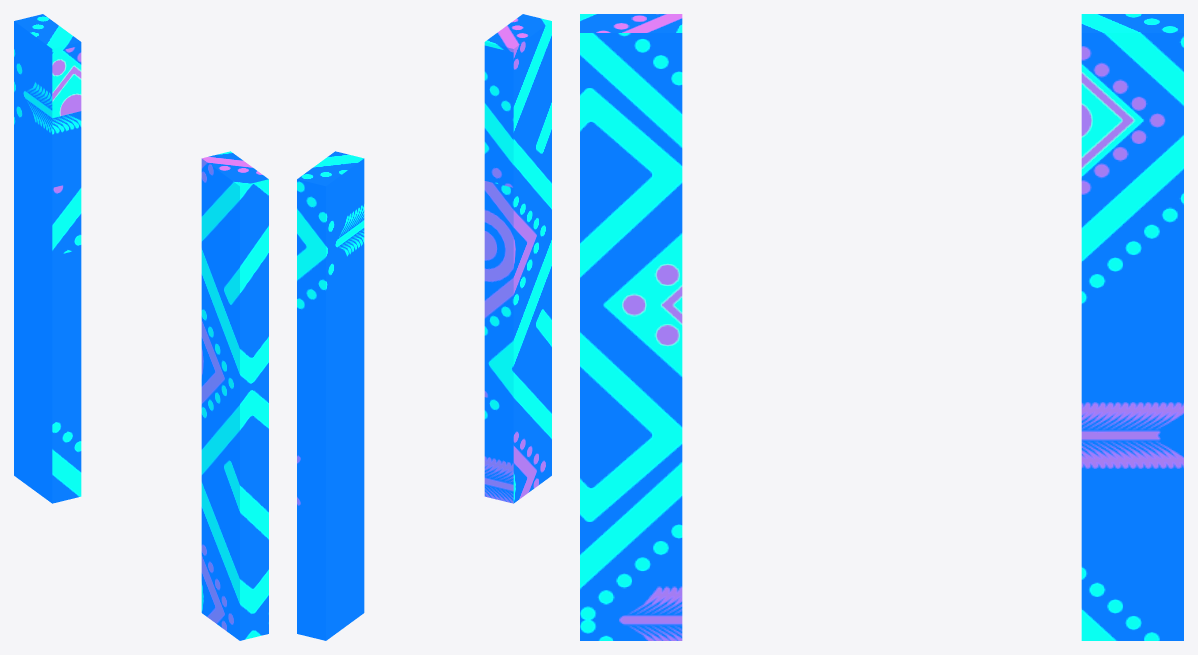
The model's file is SM_Arch_SM_Arch_base_wall.fbx.
The picture shows the model from 3 angles, left to right: view 1: azimuth 30°, elevation 25°; view 2: azimuth 150°, elevation 25°; view 3: azimuth 270°, elevation 25°; orthographic projection. The views are drawn at different scales.
Visible parts, largest first — view 1: SM_Arch_SM_Arch_base_wall_LOD0; view 2: SM_Arch_SM_Arch_base_wall_LOD0; view 3: SM_Arch_SM_Arch_base_wall_LOD0.
Boxes of the visible parts, x1,y1,x2,y2 form: SM_Arch_SM_Arch_base_wall_LOD0: [14, 14, 268, 640]; SM_Arch_SM_Arch_base_wall_LOD0: [297, 14, 551, 640]; SM_Arch_SM_Arch_base_wall_LOD0: [580, 14, 1183, 640].
Bounding box in the file's own units: 100 × 1350 × 1500.
